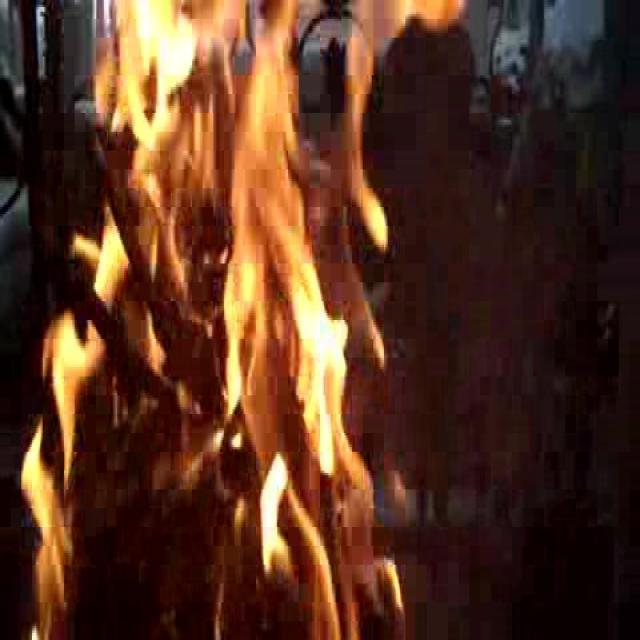Fire: (81, 0, 416, 615)
